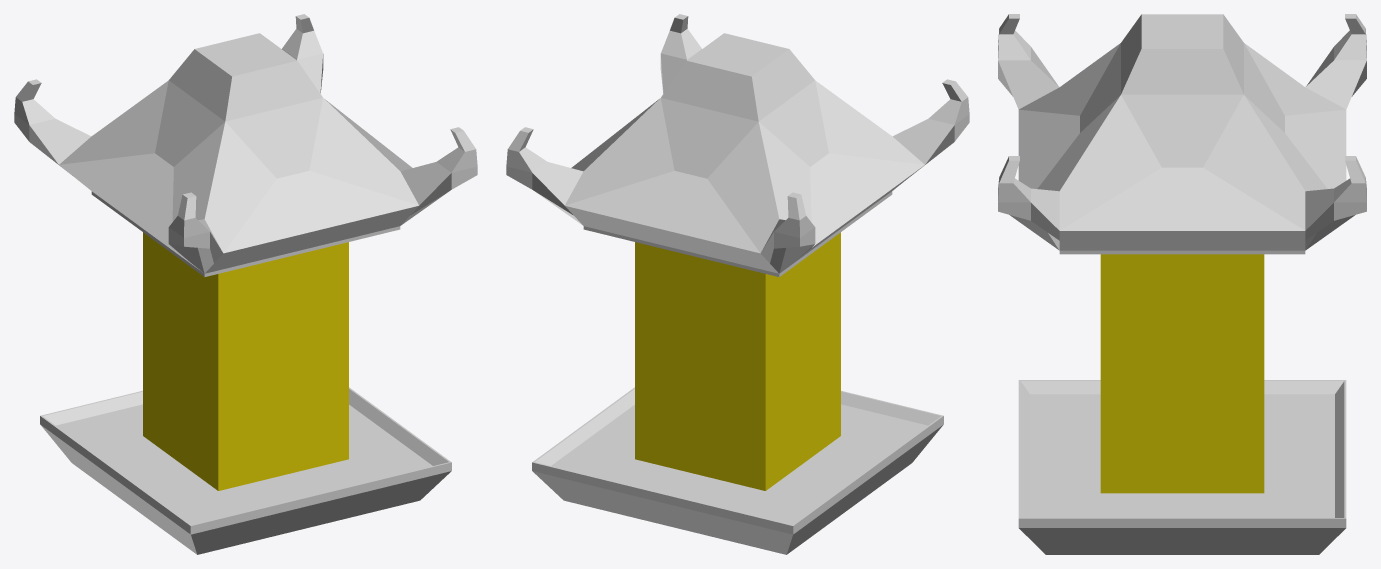
Rendered from Lamp.fbx.
The picture shows the model from 3 angles, left to right: view 1: azimuth 30°, elevation 25°; view 2: azimuth 150°, elevation 25°; view 3: azimuth 270°, elevation 25°; orthographic projection. The views are drawn at different scales.
Parts seen in each view (by area): view 1: Cube; view 2: Cube; view 3: Cube.
Boxes of the visible parts, box(x1,y1,x2,y2) form: Cube: box(14, 14, 477, 554); Cube: box(506, 14, 969, 554); Cube: box(998, 14, 1366, 554).
Size of the model in its own units: 90 by 125 by 90.
